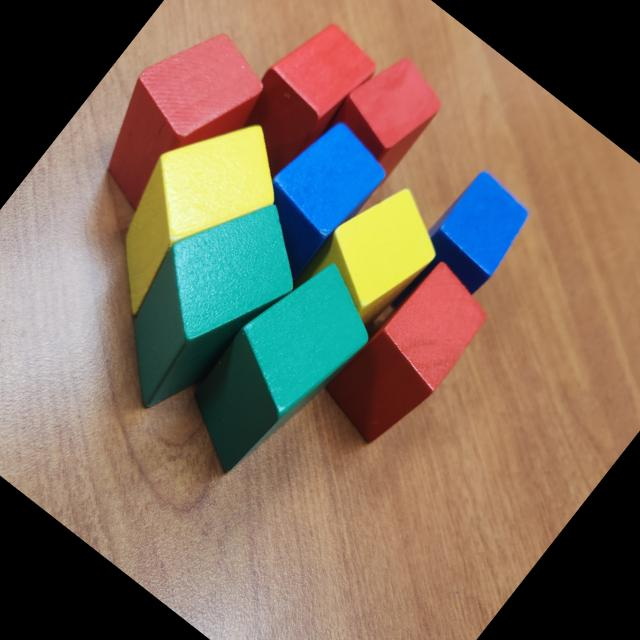blue: (228, 110, 396, 290), (407, 164, 542, 305)
green: (81, 168, 329, 436), (162, 240, 398, 497)
red: (71, 5, 285, 234), (309, 251, 502, 461), (212, 6, 386, 193), (318, 42, 457, 185)
yellow: (74, 88, 308, 340), (292, 168, 460, 342)
